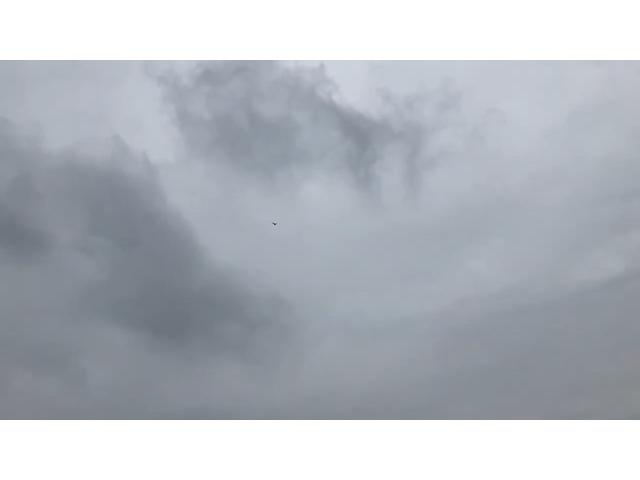Anti-Drone: (262, 213, 280, 227)
